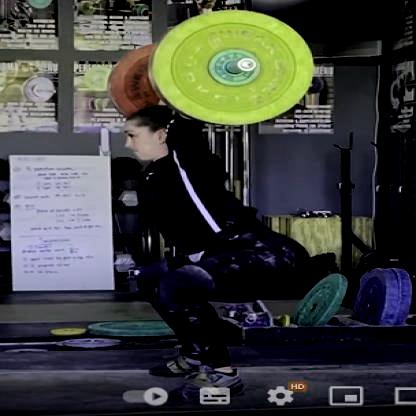Barbell: (239, 59, 257, 73)
